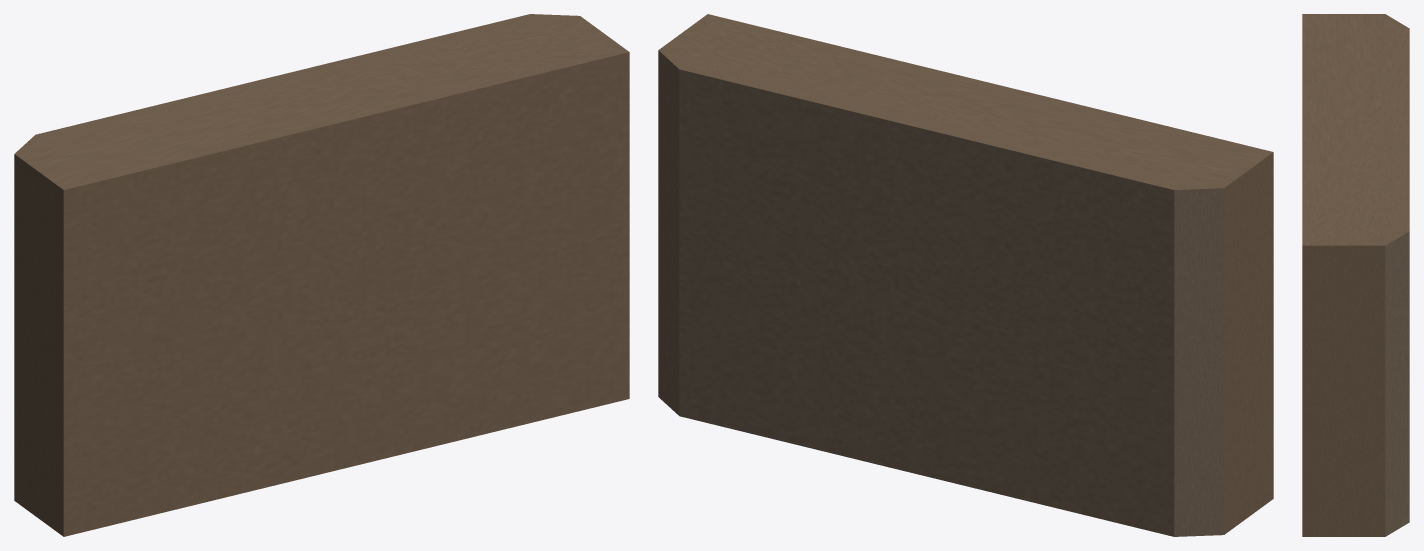
Rendered from de_desert_2.fbx.
The picture shows the model from 3 angles, left to right: view 1: azimuth 30°, elevation 25°; view 2: azimuth 150°, elevation 25°; view 3: azimuth 270°, elevation 25°; orthographic projection. The views are drawn at different scales.
Visible parts, largest first — view 1: Cube.310; view 2: Cube.310; view 3: Cube.310.
Boxes of the visible parts, x1,y1,x2,y2 form: Cube.310: [14, 14, 629, 536]; Cube.310: [658, 14, 1273, 536]; Cube.310: [1302, 14, 1409, 536].
Size of the model in its own units: 529 by 310 by 103.
